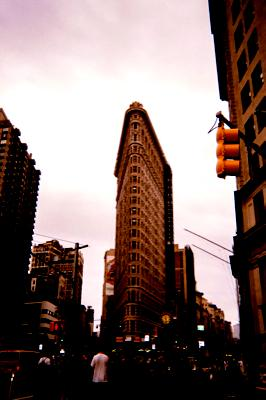International Road Signal Light: (216, 124, 241, 179)
